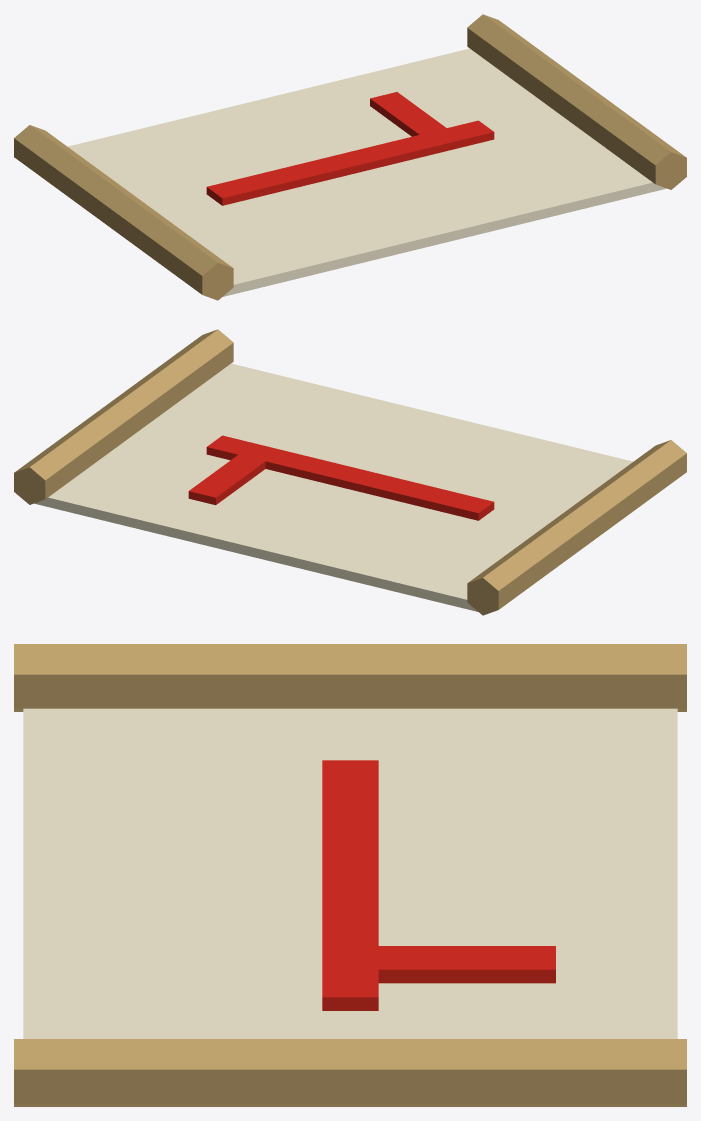
File: treasure_map.glb
The picture shows the model from 3 angles, top to bottom: view 1: azimuth 30°, elevation 25°; view 2: azimuth 150°, elevation 25°; view 3: azimuth 270°, elevation 25°; orthographic projection. The views are drawn at different scales.
Parts seen in each view (by area): view 1: treasure_map; view 2: treasure_map; view 3: treasure_map.
Part boxes in pixels (<box>): treasure_map: <box>14,14,686,300</box>; treasure_map: <box>14,329,686,615</box>; treasure_map: <box>14,644,686,1106</box>.
Bounding box in the file's own units: 0.5346 × 0.04 × 0.36.
